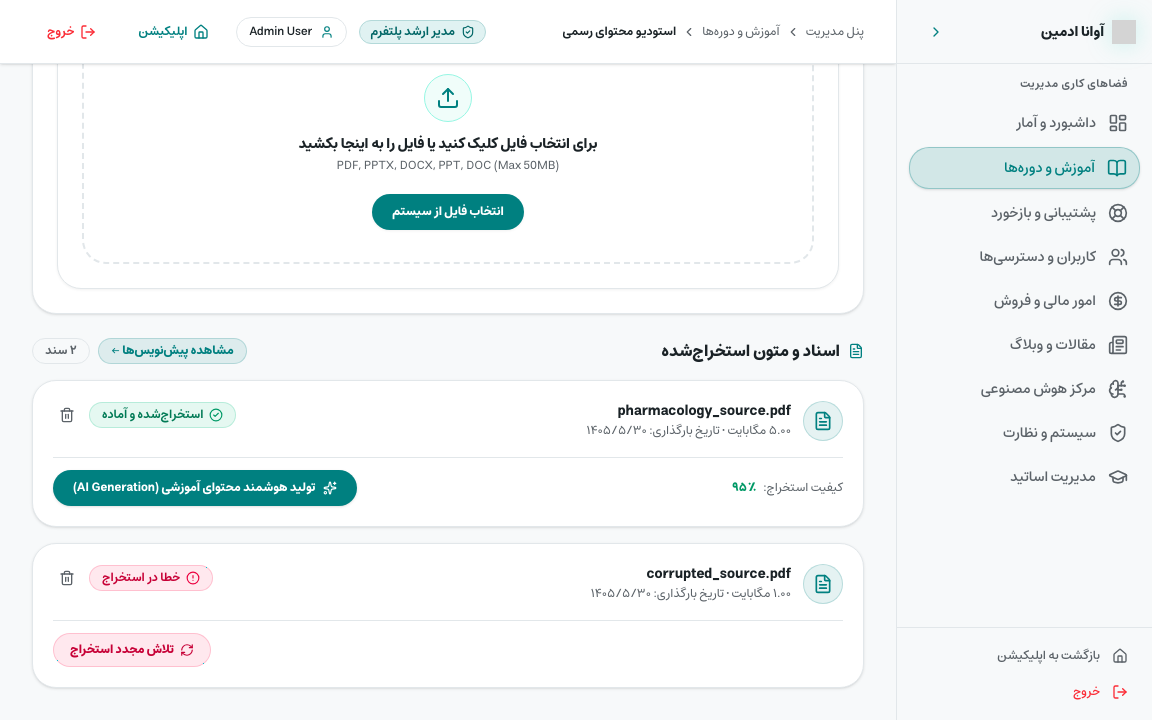
it: Unified Official Content Studio Workspace — Comprehensive Test Matrix › Scenario 5: Extracted document exposes AI generation action and opens GenerateContentModal
(page scrolled)
Expected: the heading "pharmacology_source.pdf" is shown, [618,398,791,422]
Expected: the text "تولید هوشمند محتوای آموزشی (AI Generation)" is shown, [73,480,315,496]
What coordinates should you click on to do the following:
click the button "تولید هوشمند محتوای آموزشی (AI Generation)"
I would click on:
 (205, 488)
Its box is [53,470,357,506].
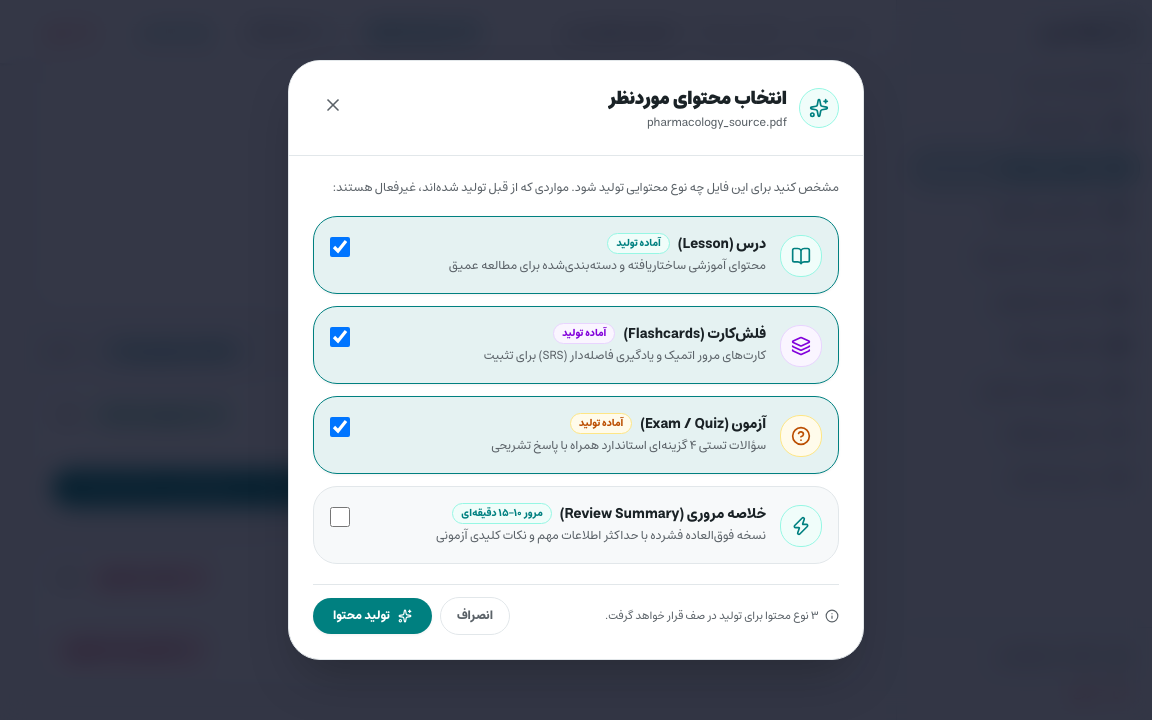
Expected: the heading "انتخاب محتوای موردنظر" is shown, [608,85,787,113]
